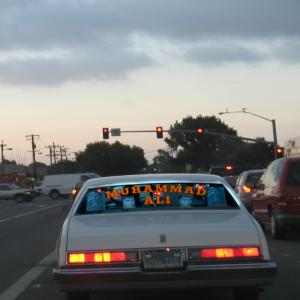Vehicle-registration-plate: (141, 250, 185, 271)
